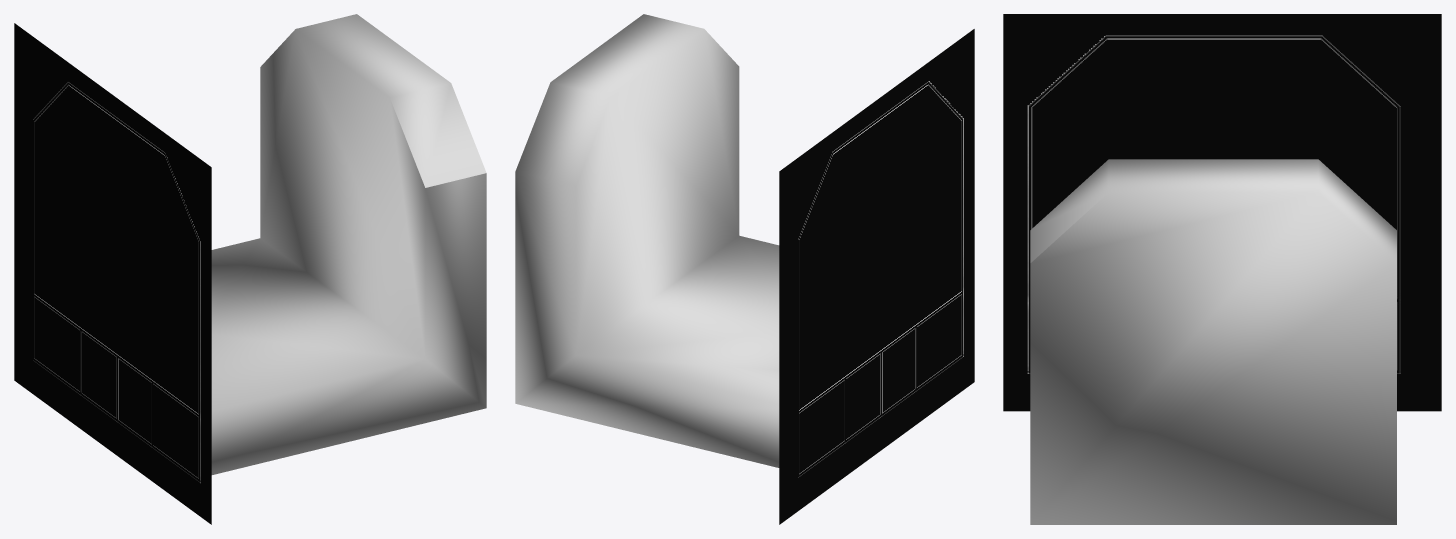
3 views of the same model, side by side, from view 1: azimuth 30°, elevation 25°; view 2: azimuth 150°, elevation 25°; view 3: azimuth 270°, elevation 25° (orthographic). The views are drawn at different scales.
Visible parts, largest first — view 1: Peça_Madeira_N1, N1_Frontal_Final; view 2: Peça_Madeira_N1, N1_Frontal_Final; view 3: Peça_Madeira_N1, N1_Frontal_Final.
Boxes of the visible parts, <box> form: Peça_Madeira_N1: <box>211,14,486,474</box>; N1_Frontal_Final: <box>14,23,211,524</box>; Peça_Madeira_N1: <box>515,14,779,467</box>; N1_Frontal_Final: <box>779,29,974,524</box>; Peça_Madeira_N1: <box>1030,159,1396,524</box>; N1_Frontal_Final: <box>1003,14,1441,411</box>.
Bounding box in the file's own units: 84 × 100 × 100.
